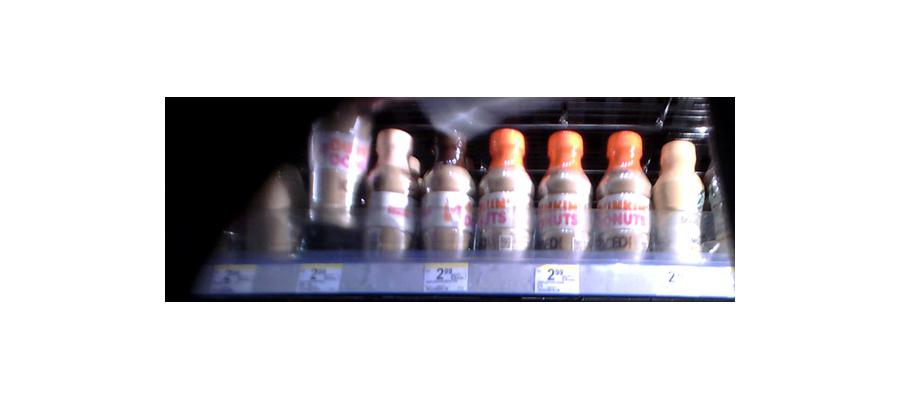bottle: (303, 106, 366, 249), (476, 126, 535, 257), (418, 127, 476, 258), (594, 130, 650, 264), (537, 127, 592, 261), (365, 125, 419, 259), (247, 141, 302, 258), (653, 136, 702, 260)
